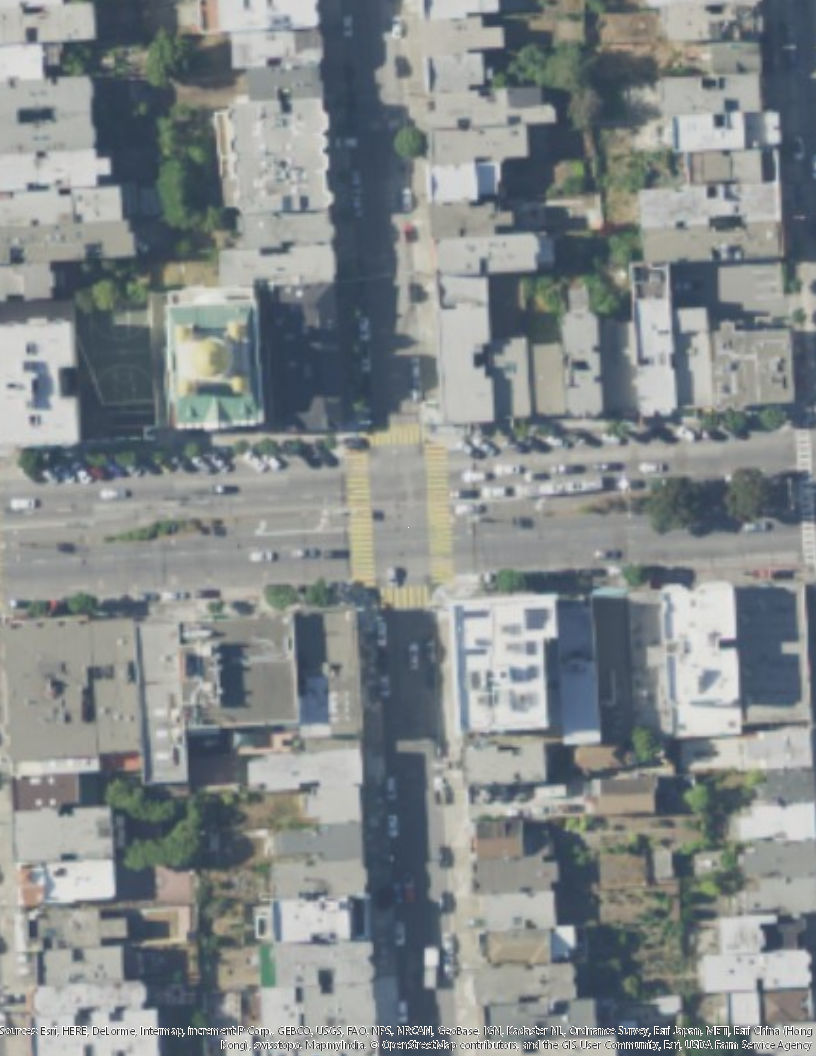zebracross: (340, 450, 377, 586), (421, 444, 455, 585), (795, 420, 816, 565), (357, 424, 424, 448), (377, 582, 429, 612)
